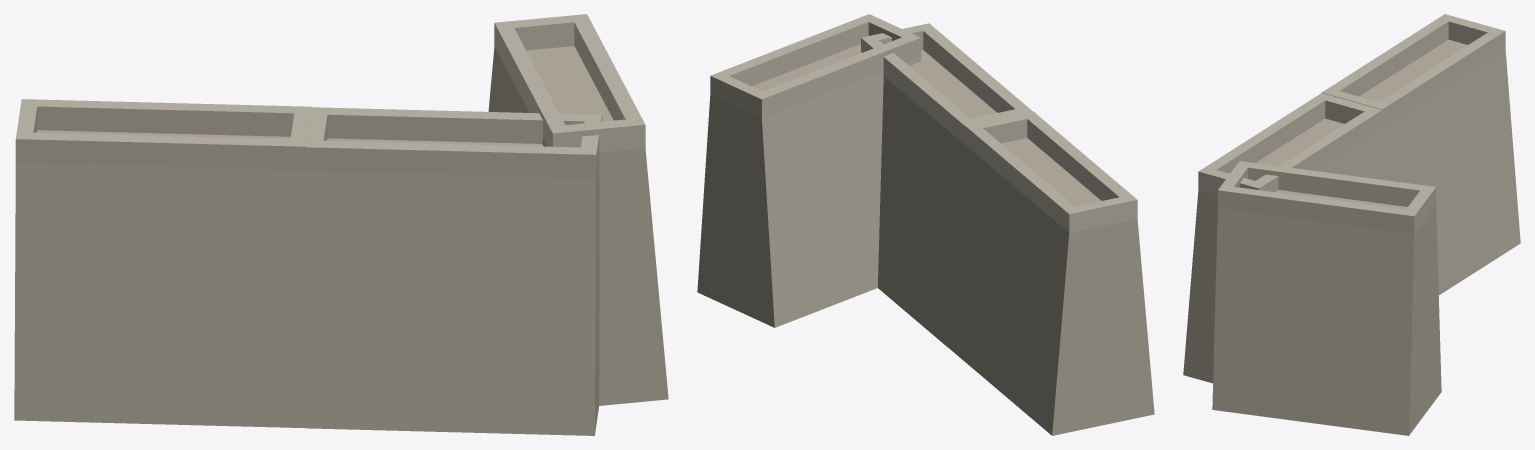
Rendered from kalkara_64_22_collision.glb.
3 renders of one model, left to right at view 1: azimuth 30°, elevation 25°; view 2: azimuth 150°, elevation 25°; view 3: azimuth 270°, elevation 25°, orthographic. The views are drawn at different scales.
Parts seen in each view (by area): view 1: geometry_0; view 2: geometry_0; view 3: geometry_0.
Part boxes in pixels (x1,y1,x2,y2): geometry_0: [14, 14, 668, 435]; geometry_0: [697, 14, 1154, 435]; geometry_0: [1183, 14, 1520, 435].
Size of the model in its own units: 28.35 by 12.88 by 18.55.
